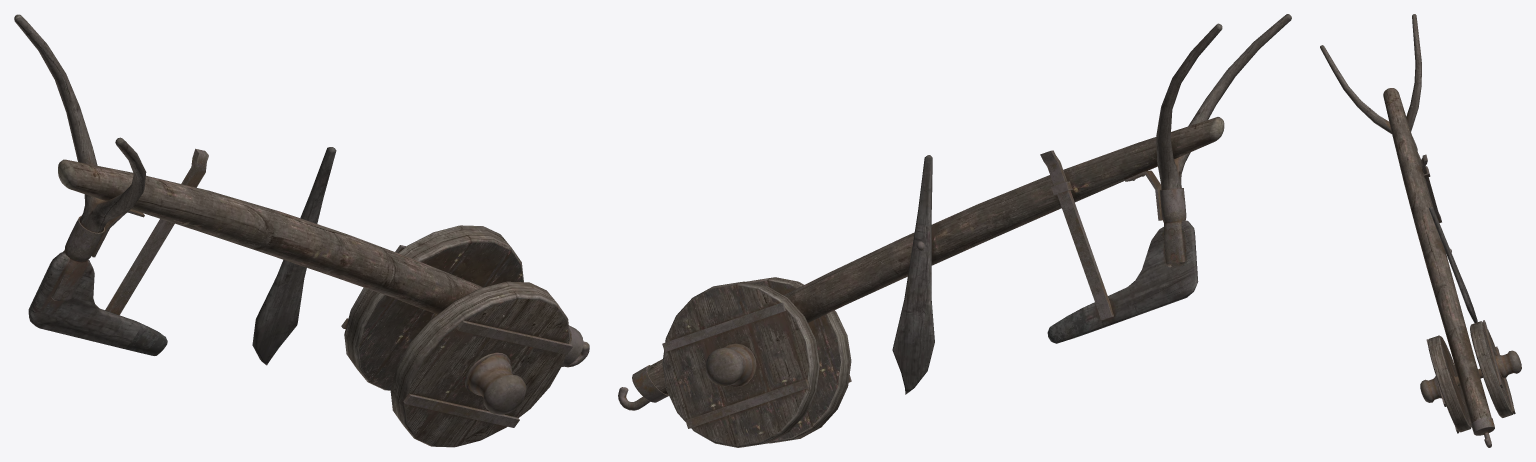
The model's file is Wooden_Plough.glb.
3 views of the same model, side by side, from view 1: azimuth 30°, elevation 25°; view 2: azimuth 150°, elevation 25°; view 3: azimuth 270°, elevation 25° (orthographic). The views are drawn at different scales.
Visible parts, largest first — view 1: SM_Wooden_Plough; view 2: SM_Wooden_Plough; view 3: SM_Wooden_Plough.
Boxes of the visible parts, <box> form: SM_Wooden_Plough: <box>14,14,589,447</box>; SM_Wooden_Plough: <box>618,14,1291,447</box>; SM_Wooden_Plough: <box>1320,14,1521,447</box>.
Bounding box in the file's own units: 2.92 × 2.51 × 1.57.
Materials: 1 (1 with a texture image).
